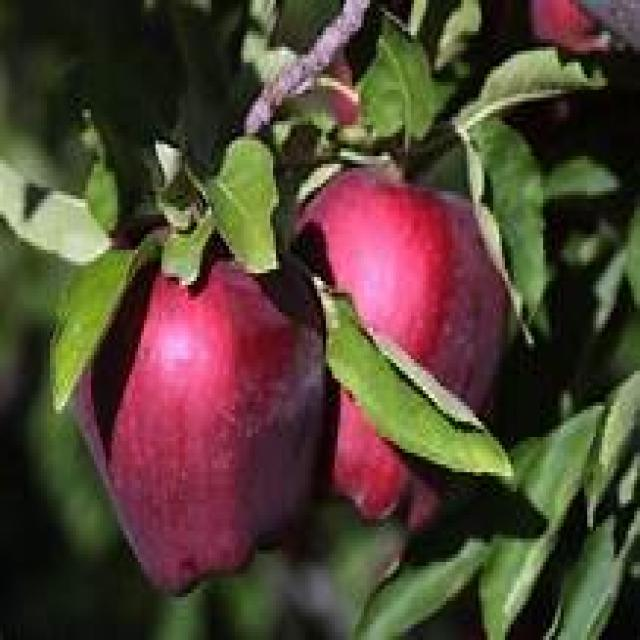apple: (56, 251, 337, 604)
